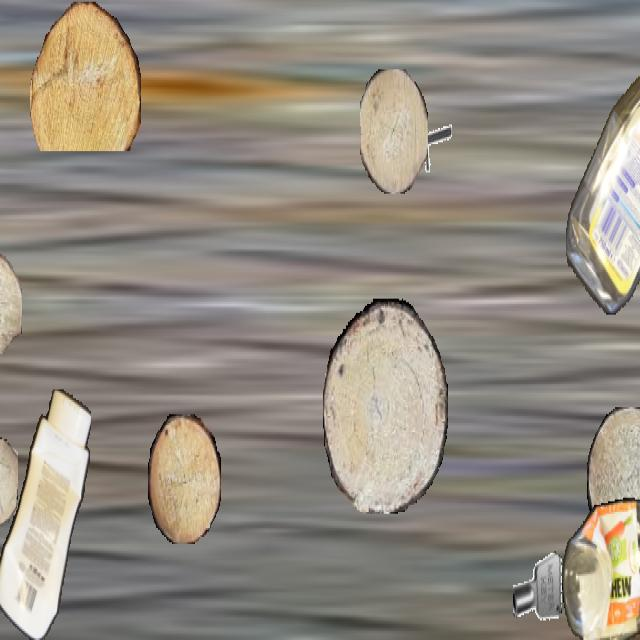metal: (513, 544, 563, 633), (414, 108, 452, 176)
plastic: (566, 2, 640, 314), (0, 390, 90, 638), (562, 496, 640, 638)
wood: (323, 299, 447, 512), (30, 2, 140, 151), (148, 414, 220, 542), (360, 69, 428, 194), (587, 407, 640, 557), (0, 251, 22, 382), (0, 438, 18, 526)
